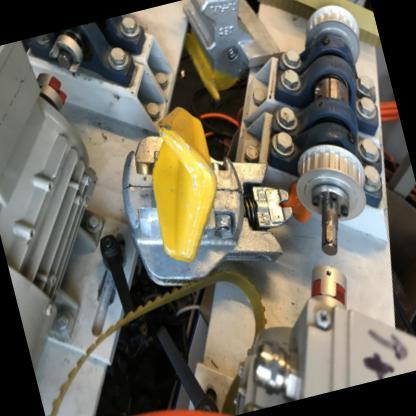Twistlock: (101, 87, 316, 314), (164, 0, 296, 104)
